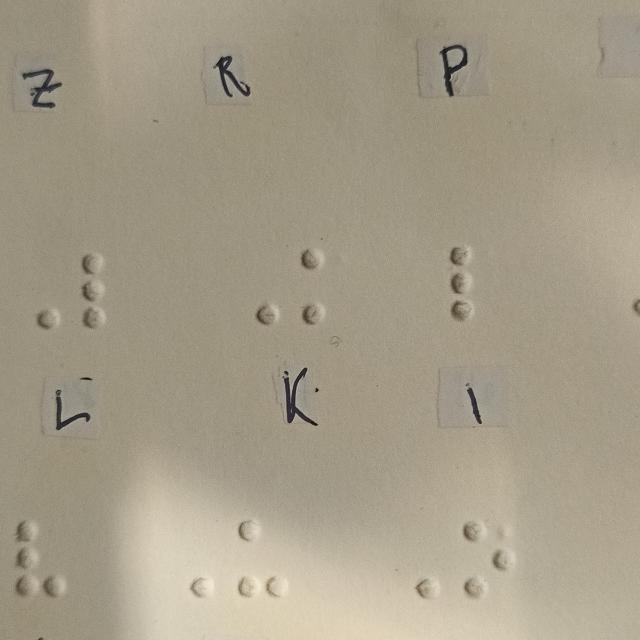capital_sign: (161, 522, 217, 600), (8, 253, 63, 331), (226, 249, 281, 327), (384, 522, 439, 600)
letter_K: (300, 249, 355, 327)
letter_L: (80, 252, 135, 330)
letter_O: (458, 521, 513, 599)
letter_U: (235, 520, 291, 598)
letter_l: (449, 245, 504, 323)
letter_v: (14, 518, 70, 596)
